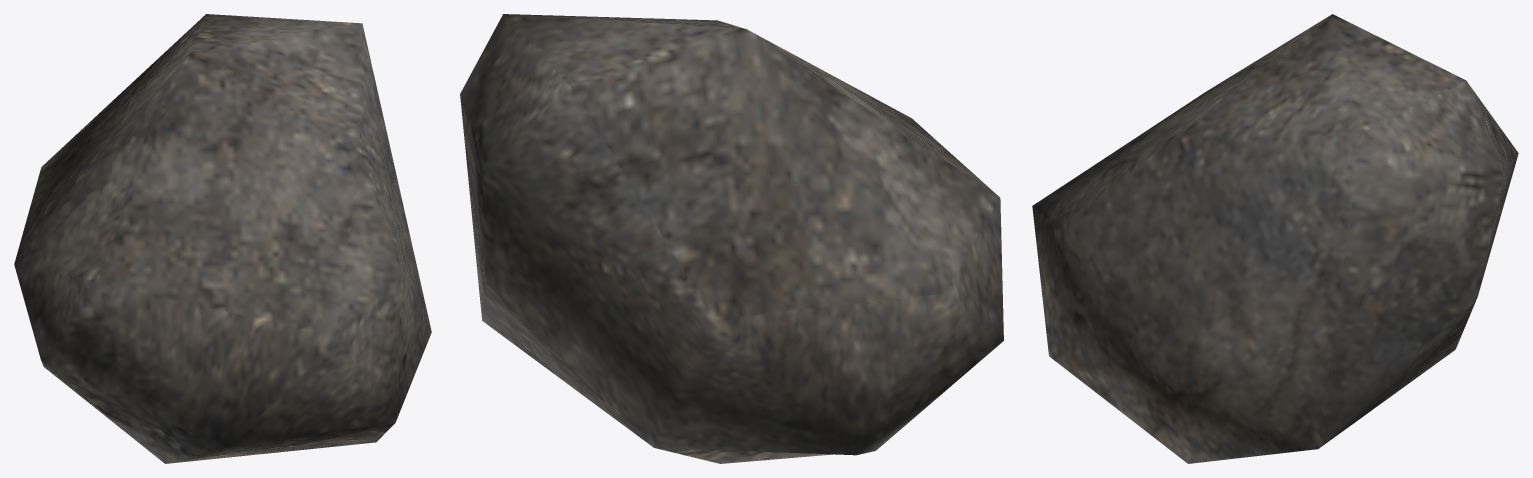
Rendered from RockSm2_5_LOD1.fbx.
3 renders of one model, left to right at view 1: azimuth 30°, elevation 25°; view 2: azimuth 150°, elevation 25°; view 3: azimuth 270°, elevation 25°, orthographic. The views are drawn at different scales.
Visible parts, largest first — view 1: polySurface227; view 2: polySurface227; view 3: polySurface227.
Part boxes in pixels (x1,y1,x2,y2): polySurface227: (14,14,431,463); polySurface227: (460,14,1003,463); polySurface227: (1032,14,1518,463).
Size of the model in its own units: 73.84 by 63.7 by 72.33.
